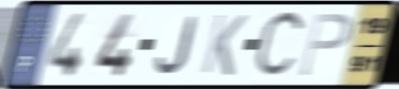4: (92, 11, 136, 79), (45, 10, 87, 80)
C: (250, 7, 308, 84)
J: (154, 14, 200, 76)
K: (198, 11, 251, 78)
P: (296, 11, 354, 79)
